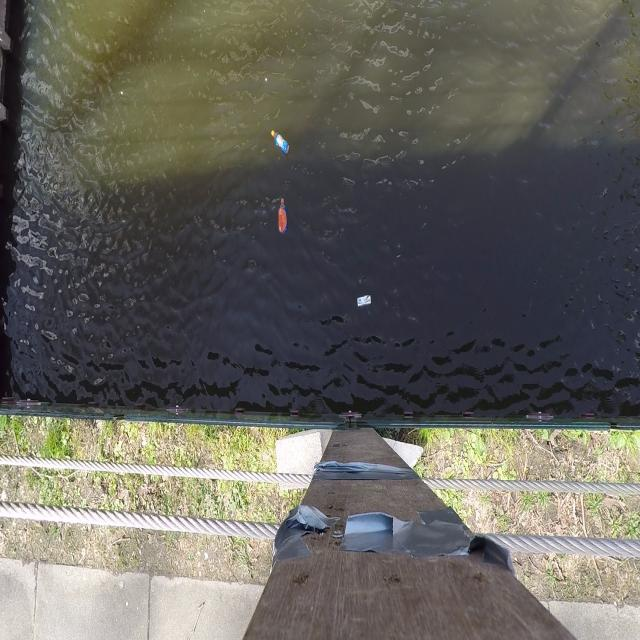Bouteille plastique: (275, 195, 292, 244), (270, 124, 292, 161)
